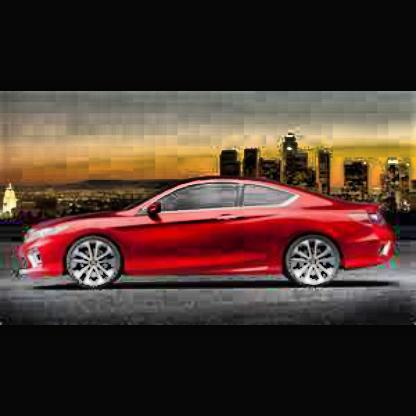Honda Accord Coupe 2012: (16, 175, 394, 299)
